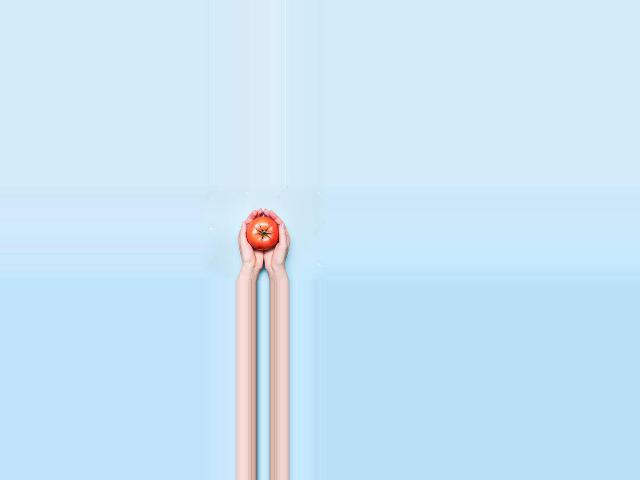tomato: (246, 216, 279, 250)
